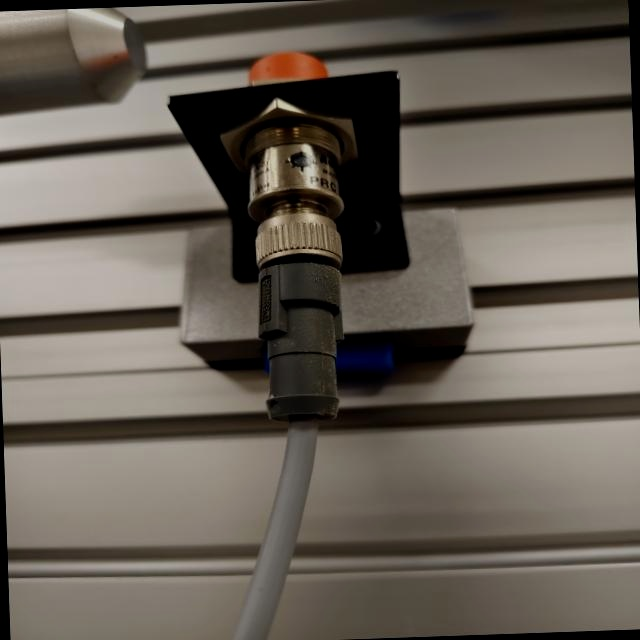inductive sensor: (149, 32, 493, 430)
